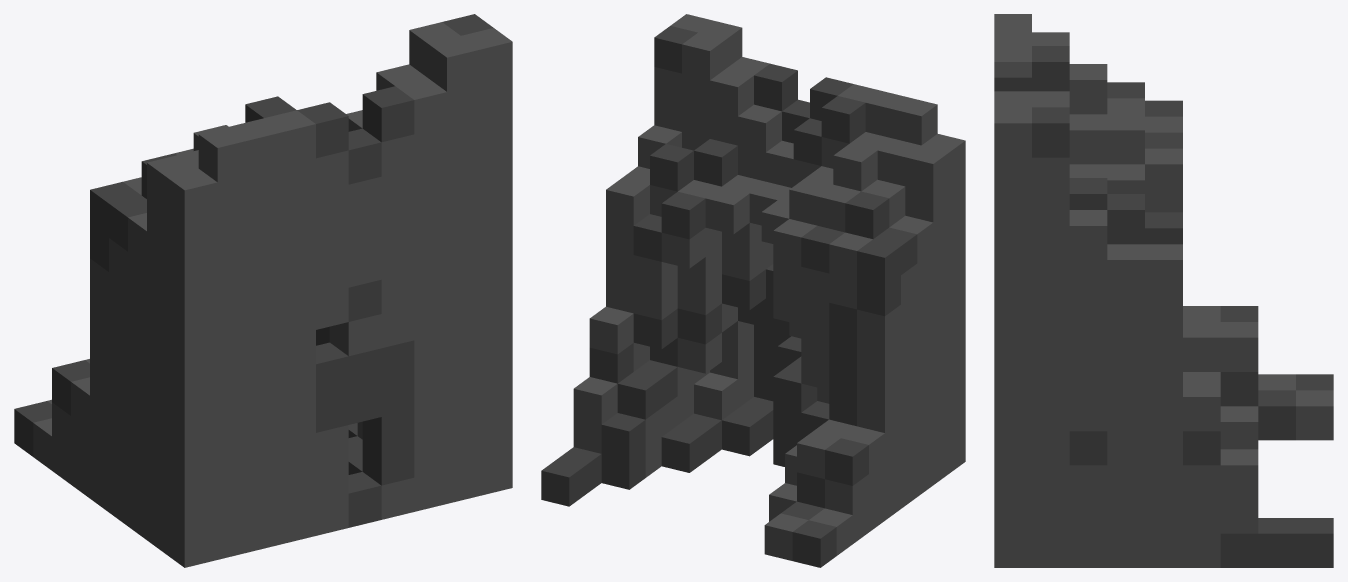
Rendered from Stein_Rand-04.obj.
The picture shows the model from 3 angles, left to right: view 1: azimuth 30°, elevation 25°; view 2: azimuth 150°, elevation 25°; view 3: azimuth 270°, elevation 25°; orthographic projection. The views are drawn at different scales.
Size of the model in its own units: 1 by 1.3 by 0.9.
1 material, 1 textured.
